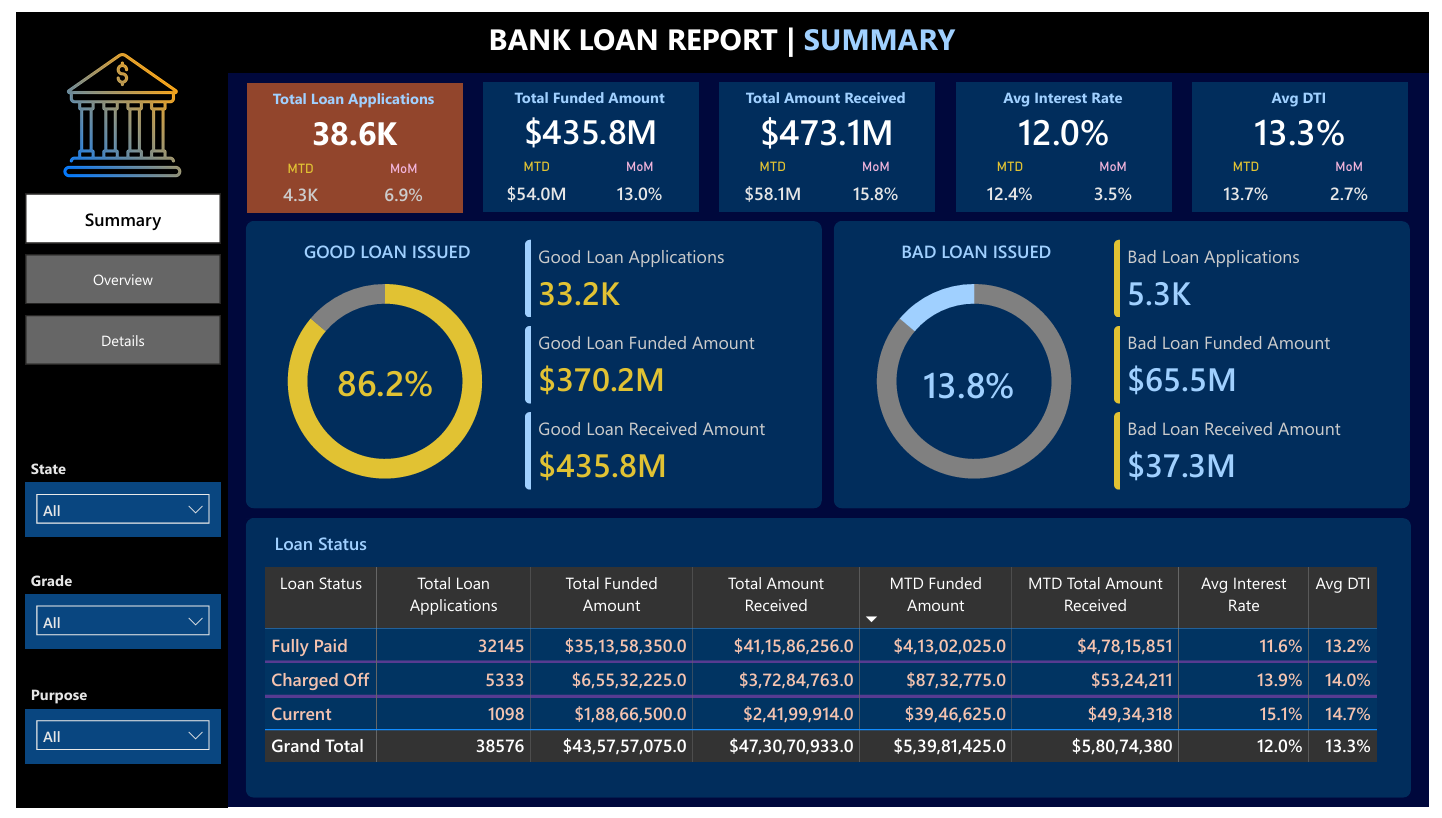

Layout of this report page (visuals, bound fields, positions):
{"tool":"powerbi","page":{"name":"Summary","canvas":[1280,720],"ordinal":0},"visuals":[{"type":"shape","box":[207.5,457.5,1056.2,253.8],"z":0},{"type":"shape","box":[207.5,188.8,522,260],"z":1000},{"type":"shape","box":[0,0,1280.3,55],"z":2000},{"type":"shape","box":[0,54.9,192,665.5],"z":3000},{"type":"shape","box":[422.7,62.5,195,117],"z":3000,"group":"g2"},{"type":"shape","box":[637,62.5,195,117],"z":3000,"group":"g3"},{"type":"shape","box":[851.4,62.5,195,117],"z":3000,"group":"g4"},{"type":"shape","box":[1065.8,62.5,195,117],"z":3000,"group":"g5"},{"type":"shape","box":[208.3,63.8,195,117],"z":3000,"group":"g1"},{"type":"textbox","box":[422.6,0,436.4,48],"z":4000},{"type":"cardVisual","fields":{"Data":["financial_loan.Total Funded Amount"]},"box":[421.9,76.9,196.7,56.7],"z":4000,"group":"g2"},{"type":"cardVisual","fields":{"Data":["financial_loan.Total Amount Received"]},"box":[636.2,76.9,196.7,56.7],"z":4000,"group":"g3"},{"type":"cardVisual","fields":{"Data":["financial_loan.Avg Interest Rate"]},"box":[850.6,76.9,196.7,56.7],"z":4000,"group":"g4"},{"type":"cardVisual","fields":{"Data":["financial_loan.Avg DTI"]},"box":[1065,76.9,196.7,56.7],"z":4000,"group":"g5"},{"type":"cardVisual","fields":{"Data":["financial_loan.Total Loan Applications"]},"box":[207.5,78.2,196.7,56.7],"z":4000,"group":"g1"},{"type":"textbox","box":[422.4,62.5,194.5,30],"z":5000,"group":"g2"},{"type":"textbox","box":[636.7,62.5,194.5,30],"z":5000,"group":"g3"},{"type":"textbox","box":[851.1,62.5,194.5,30],"z":5000,"group":"g4"},{"type":"textbox","box":[1065.5,62.5,194.5,30],"z":5000,"group":"g5"},{"type":"group","id":"g1","title":"Group 1","box":[207.5,63.8,196.2,116.2],"z":5000},{"type":"textbox","box":[208,63.8,194.5,30],"z":5000,"group":"g1"},{"type":"group","id":"g2","title":"Group 1","box":[421.9,62.5,196.2,116.2],"z":6000},{"type":"cardVisual","title":"MTD","fields":{"Data":["financial_loan.MTD Funded Amount"]},"box":[423.1,132.8,96.2,45],"z":6000,"group":"g2"},{"type":"cardVisual","title":"MTD","fields":{"Data":["financial_loan.MTD Total Amount Received"]},"box":[637.4,132.8,96.2,45],"z":6000,"group":"g3"},{"type":"cardVisual","title":"MTD","fields":{"Data":["financial_loan.MTD Avg Int Rate"]},"box":[851.8,132.8,96.2,45],"z":6000,"group":"g4"},{"type":"cardVisual","title":"MTD","fields":{"Data":["financial_loan.MTD Avg DTI"]},"box":[1066.2,132.8,96.2,45],"z":6000,"group":"g5"},{"type":"cardVisual","title":"MTD","fields":{"Data":["financial_loan.MTD Loan Applications"]},"box":[208.7,134.1,96.2,45],"z":6000,"group":"g1"},{"type":"group","id":"g3","title":"Group 1","box":[636.2,62.5,196.2,116.2],"z":7000},{"type":"cardVisual","title":"MoM","fields":{"Data":["financial_loan.MoM Total Funded Amount"]},"box":[521.9,132.8,86.2,45],"z":7000,"group":"g2"},{"type":"cardVisual","title":"MoM","fields":{"Data":["financial_loan.MoM Total Amount Received"]},"box":[736.2,132.8,86.2,45],"z":7000,"group":"g3"},{"type":"cardVisual","title":"MoM","fields":{"Data":["financial_loan.MoM Avg Int Rate"]},"box":[950.6,132.8,86.2,45],"z":7000,"group":"g4"},{"type":"cardVisual","title":"MoM","fields":{"Data":["financial_loan.MoM Avg DTI"]},"box":[1165,132.8,86.2,45],"z":7000,"group":"g5"},{"type":"cardVisual","title":"MoM","fields":{"Data":["financial_loan.MoM Loan Applications"]},"box":[307.5,134.1,86.2,45],"z":7000,"group":"g1"},{"type":"group","id":"g4","title":"Group 1","box":[850.6,62.5,196.2,116.2],"z":8000},{"type":"group","id":"g5","title":"Group 1","box":[1065,62.5,196.2,116.2],"z":9000},{"type":"donutChart","fields":{"Y":["financial_loan.Total Loan Applications"],"Category":["financial_loan.Good v Bad Loan"]},"box":[208.8,218.8,250,230],"z":10000},{"type":"shape","box":[741.2,188.8,522,260],"z":11000},{"type":"cardVisual","fields":{"Data":["financial_loan.Good Loan %"]},"box":[261.2,303.8,146.2,56.2],"z":12000},{"type":"textbox","box":[227.5,200,216.2,37.5],"z":13000},{"type":"cardVisual","fields":{"Data":["financial_loan.Good Loan Applications","financial_loan.Good Loan Funded Amount","financial_loan.Good Loan Received Amount"]},"box":[443.8,188.8,286.2,260],"z":14000},{"type":"donutChart","fields":{"Y":["financial_loan.Total Loan Applications"],"Category":["financial_loan.Good v Bad Loan"]},"box":[742.8,218.8,250,230],"z":15000},{"type":"textbox","box":[761.5,200,216.2,37.5],"z":16000},{"type":"cardVisual","fields":{"Data":["financial_loan.Bad Loan Applications","financial_loan.Bad Loan Funded Amount","financial_loan.Bad Loan Received Amount"]},"box":[977.8,188.8,286.2,260],"z":17000},{"type":"cardVisual","fields":{"Data":["financial_loan.Bad  Loan %"]},"box":[797.5,306.2,146.2,56.2],"z":18000},{"type":"tableEx","fields":{"Values":["financial_loan.loan_status","financial_loan.Total Loan Applications","financial_loan.Total Funded Amount","financial_loan.Total Amount Received","financial_loan.MTD Funded Amount","financial_loan.MTD Total Amount Received","financial_loan.Avg Interest Rate","financial_loan.Avg DTI"]},"box":[220,497.5,1031.2,205],"z":19000},{"type":"textbox","box":[228.8,465,107.5,32.5],"z":20000},{"type":"slicer","fields":{"Values":["financial_loan.address_state"]},"box":[7.5,426,177.5,48.8],"z":21000},{"type":"textbox","box":[7.5,398.5,73.8,27.5],"z":22000},{"type":"textbox","box":[7.5,499.8,73.8,27.5],"z":23000},{"type":"slicer","fields":{"Values":["financial_loan.grade"]},"box":[7.5,527.3,177.5,48.8],"z":24000},{"type":"slicer","fields":{"Values":["financial_loan.purpose"]},"box":[7.5,631,177.5,48.8],"z":25000},{"type":"textbox","box":[7.5,603.5,73.8,27.5],"z":26000},{"type":"image","box":[21.2,35,150,116.2],"z":27000},{"type":"pageNavigator","box":[7.5,163.8,177.5,156.2],"z":28000}]}

Visuals, with their boxes in screenshot pixels (x1, y1, x2, y2), scaled from the page's 1280x720 canvas onto the 1442x818 screenshot:
shape: BBox(234, 520, 1424, 808)
shape: BBox(234, 214, 822, 510)
shape: BBox(0, 0, 1441, 62)
shape: BBox(0, 62, 216, 817)
shape: BBox(476, 71, 696, 204)
shape: BBox(718, 71, 937, 204)
shape: BBox(959, 71, 1179, 204)
shape: BBox(1201, 71, 1420, 204)
shape: BBox(235, 72, 454, 205)
textbox: BBox(476, 0, 968, 55)
cardVisual - financial_loan.Total Funded Amount: BBox(475, 87, 697, 152)
cardVisual - financial_loan.Total Amount Received: BBox(717, 87, 938, 152)
cardVisual - financial_loan.Avg Interest Rate: BBox(958, 87, 1180, 152)
cardVisual - financial_loan.Avg DTI: BBox(1200, 87, 1421, 152)
cardVisual - financial_loan.Total Loan Applications: BBox(234, 89, 455, 153)
textbox: BBox(476, 71, 695, 105)
textbox: BBox(717, 71, 936, 105)
textbox: BBox(959, 71, 1178, 105)
textbox: BBox(1200, 71, 1419, 105)
"Group 1" group: BBox(234, 72, 455, 204)
textbox: BBox(234, 72, 453, 107)
"Group 1" group: BBox(475, 71, 696, 203)
"MTD" cardVisual: BBox(477, 151, 585, 202)
"MTD" cardVisual: BBox(718, 151, 826, 202)
"MTD" cardVisual: BBox(960, 151, 1068, 202)
"MTD" cardVisual: BBox(1201, 151, 1310, 202)
"MTD" cardVisual: BBox(235, 152, 343, 203)
"Group 1" group: BBox(717, 71, 938, 203)
"MoM" cardVisual: BBox(588, 151, 685, 202)
"MoM" cardVisual: BBox(829, 151, 926, 202)
"MoM" cardVisual: BBox(1071, 151, 1168, 202)
"MoM" cardVisual: BBox(1312, 151, 1410, 202)
"MoM" cardVisual: BBox(346, 152, 444, 203)
"Group 1" group: BBox(958, 71, 1179, 203)
"Group 1" group: BBox(1200, 71, 1421, 203)
donutChart - financial_loan.Total Loan Applications x financial_loan.Good v Bad Loan: BBox(235, 249, 517, 510)
shape: BBox(835, 214, 1423, 510)
cardVisual - financial_loan.Good Loan %: BBox(294, 345, 459, 409)
textbox: BBox(256, 227, 500, 270)
cardVisual - financial_loan.Good Loan Applications x financial_loan.Good Loan Funded Amount: BBox(500, 214, 822, 510)
donutChart - financial_loan.Total Loan Applications x financial_loan.Good v Bad Loan: BBox(837, 249, 1118, 510)
textbox: BBox(858, 227, 1101, 270)
cardVisual - financial_loan.Bad Loan Applications x financial_loan.Bad Loan Funded Amount: BBox(1102, 214, 1424, 510)
cardVisual - financial_loan.Bad  Loan %: BBox(898, 348, 1063, 412)
tableEx - financial_loan.loan_status x financial_loan.Total Loan Applications: BBox(248, 565, 1410, 798)
textbox: BBox(258, 528, 379, 565)
slicer - financial_loan.address_state: BBox(8, 484, 208, 539)
textbox: BBox(8, 453, 92, 484)
textbox: BBox(8, 568, 92, 599)
slicer - financial_loan.grade: BBox(8, 599, 208, 655)
slicer - financial_loan.purpose: BBox(8, 717, 208, 772)
textbox: BBox(8, 686, 92, 717)
image: BBox(24, 40, 193, 172)
pageNavigator: BBox(8, 186, 208, 364)
